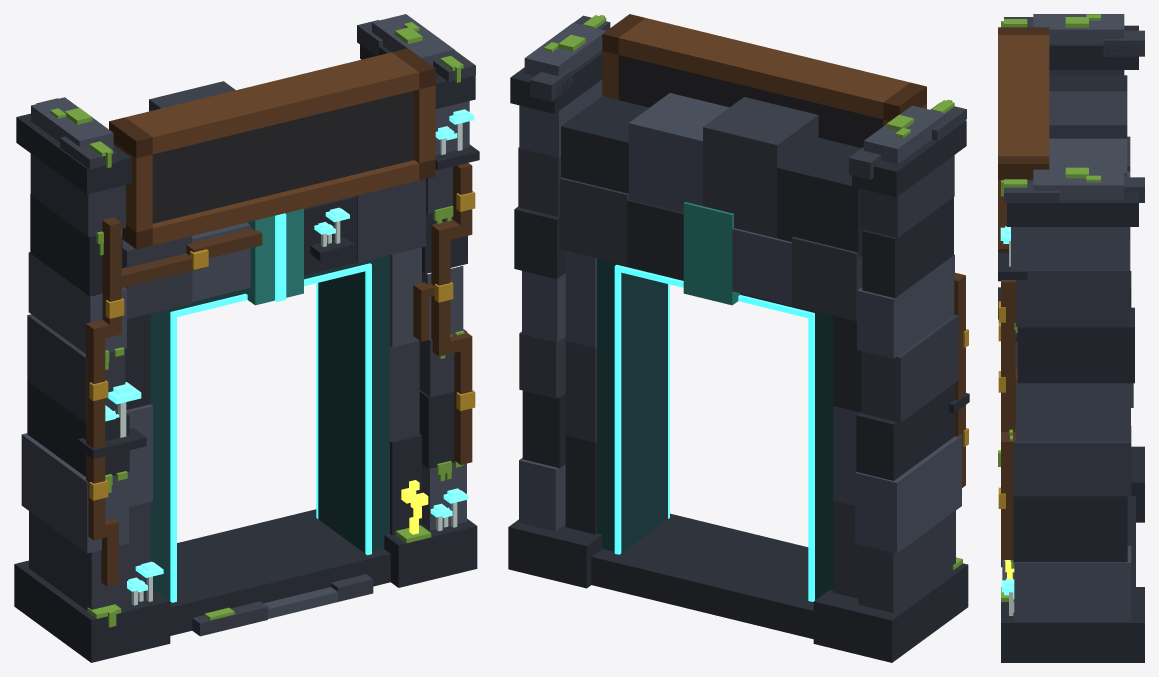
The model's file is Lobby_PortalArch_BogheartCaverns.glb.
3 views of the same model, side by side, from view 1: azimuth 30°, elevation 25°; view 2: azimuth 150°, elevation 25°; view 3: azimuth 270°, elevation 25° (orthographic). The views are drawn at different scales.
Visible parts, largest first — view 1: RockPillars_RockDark, InnerRing, SignFrame_SignFrame, RockPillars_RockLight, RockPillars_Rock, SignBoard, Roots, RockBase_RockDark, RockLintel_Rock, RimGlow, RockJambs_RockLight, RockJambs_RockDark (+13 smaller); view 2: RockPillars_RockDark, RockPillars_RockLight, RockPillars_Rock, InnerRing, RockLintel_Rock, RockLintel_RockDark, RockBase_RockDark, SignFrame_SignFrame, RockLintel_RockLight, SignBoard, RimGlow, RockJambs_RockDark (+6 smaller); view 3: RockPillars_RockDark, RockPillars_RockLight, RockPillars_Rock, SignFrame_SignFrame, RockLintel_Rock, Roots, RockLintel_RockLight, SignFrame_SignFrameDark, BogMoss, RockLintel_RockDark, RockBase_RockDark, RootKnots (+1 smaller).
Boxes of the visible parts, x1,y1,x2,y2 form: RockPillars_RockDark: [14, 33, 479, 662]; InnerRing: [150, 255, 389, 600]; SignFrame_SignFrame: [113, 52, 435, 245]; RockPillars_RockLight: [21, 14, 469, 553]; RockPillars_Rock: [27, 20, 475, 610]; SignBoard: [152, 91, 414, 223]; Roots: [86, 163, 472, 586]; RockBase_RockDark: [170, 509, 390, 635]; RockLintel_Rock: [122, 81, 425, 319]; RimGlow: [170, 263, 371, 602]; RockJambs_RockLight: [126, 247, 421, 506]; RockJambs_RockDark: [125, 313, 421, 535]; RockPillars_RockDark: [508, 50, 969, 662]; RockPillars_RockLight: [519, 22, 961, 553]; RockPillars_Rock: [518, 15, 966, 612]; InnerRing: [597, 258, 833, 600]; RockLintel_Rock: [559, 97, 862, 321]; RockLintel_RockDark: [561, 96, 862, 279]; RockBase_RockDark: [591, 513, 813, 639]; SignFrame_SignFrame: [602, 18, 926, 126]; RockLintel_RockLight: [628, 93, 791, 305]; SignBoard: [618, 55, 883, 147]; RimGlow: [614, 264, 814, 601]; RockJambs_RockDark: [565, 316, 861, 534]; RockPillars_RockDark: [998, 25, 1144, 662]; RockPillars_RockLight: [1011, 14, 1133, 621]; RockPillars_Rock: [1004, 17, 1144, 496]; SignFrame_SignFrame: [998, 35, 1049, 248]; RockLintel_Rock: [1015, 91, 1130, 336]; Roots: [1001, 280, 1017, 559]; RockLintel_RockLight: [1049, 138, 1130, 177]; SignFrame_SignFrameDark: [998, 27, 1049, 252]; BogMoss: [998, 14, 1100, 568]; RockLintel_RockDark: [1049, 75, 1130, 239]; RockBase_RockDark: [1127, 496, 1135, 586]; RootKnots: [998, 301, 1005, 508].
Bounding box in the file's own units: 2.86 × 3.6 × 1.
